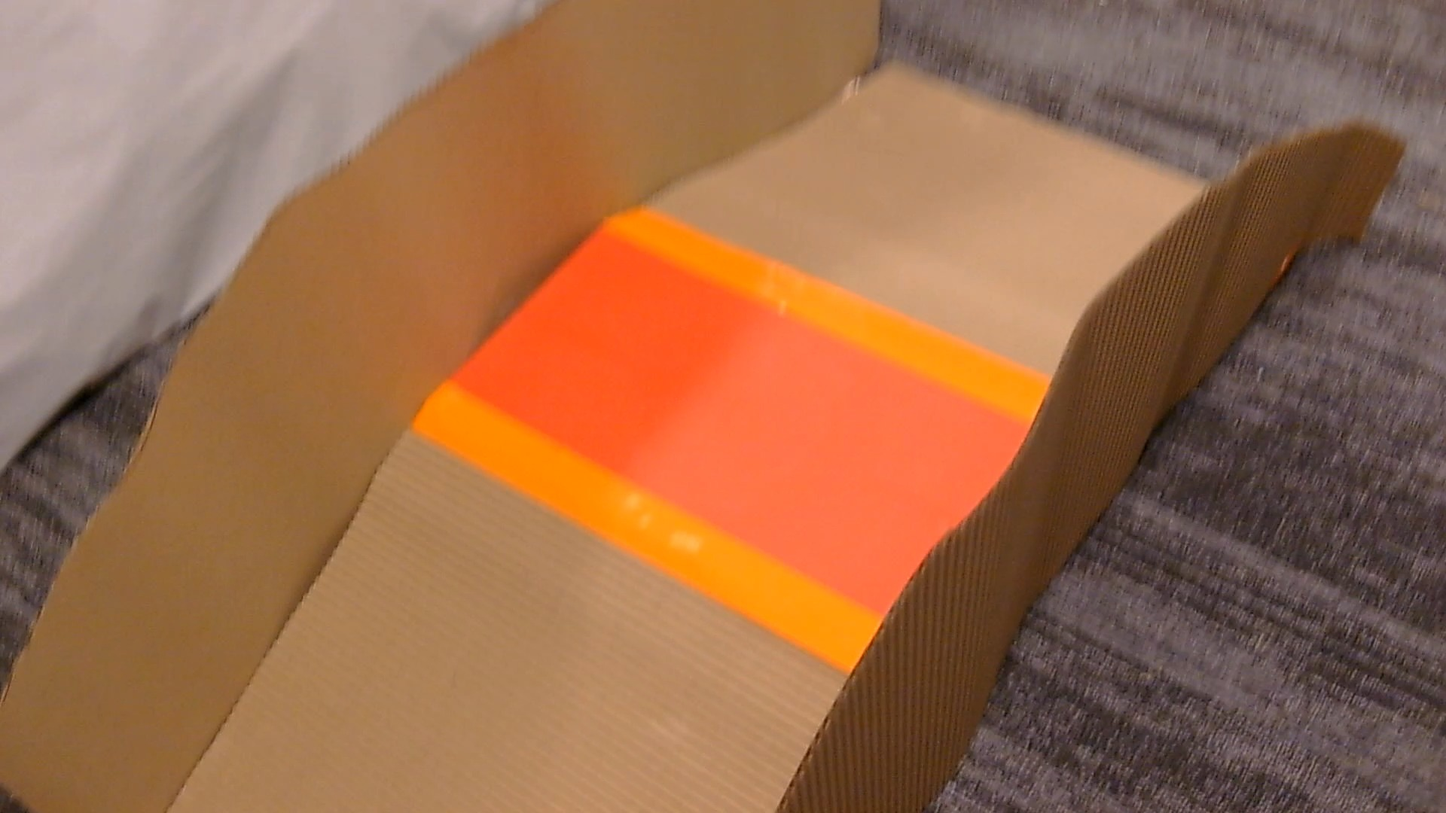Ramp: (0, 0, 1402, 812)
